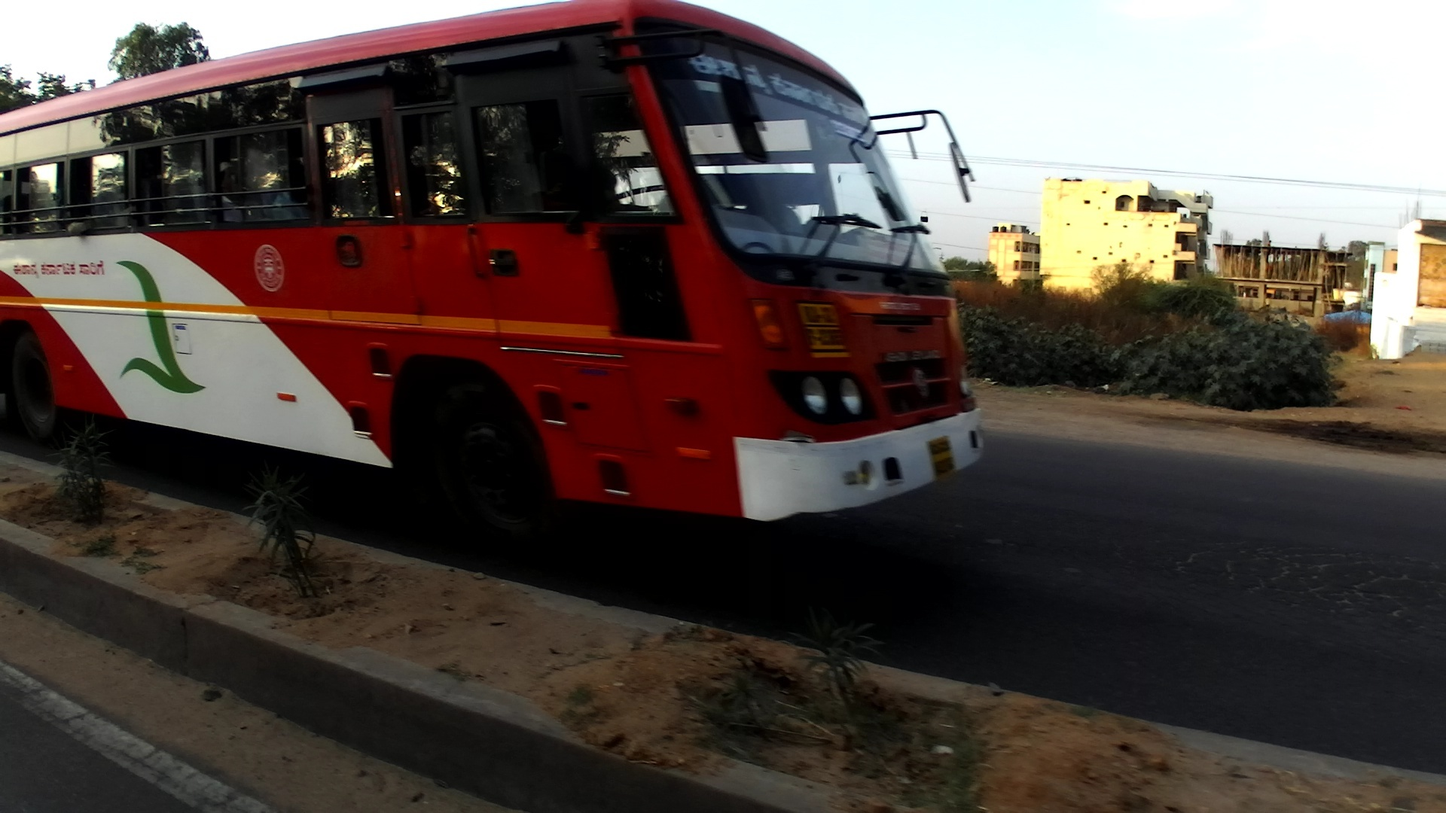bus: (2, 0, 987, 604)
